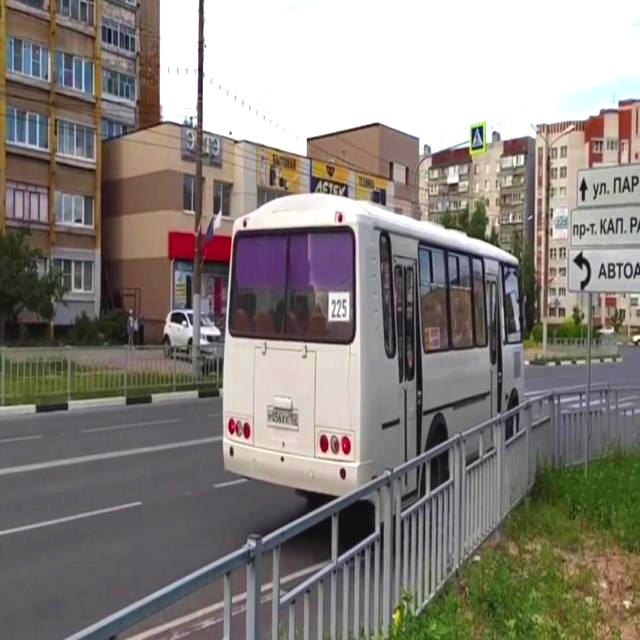bus: (211, 156, 553, 519)
